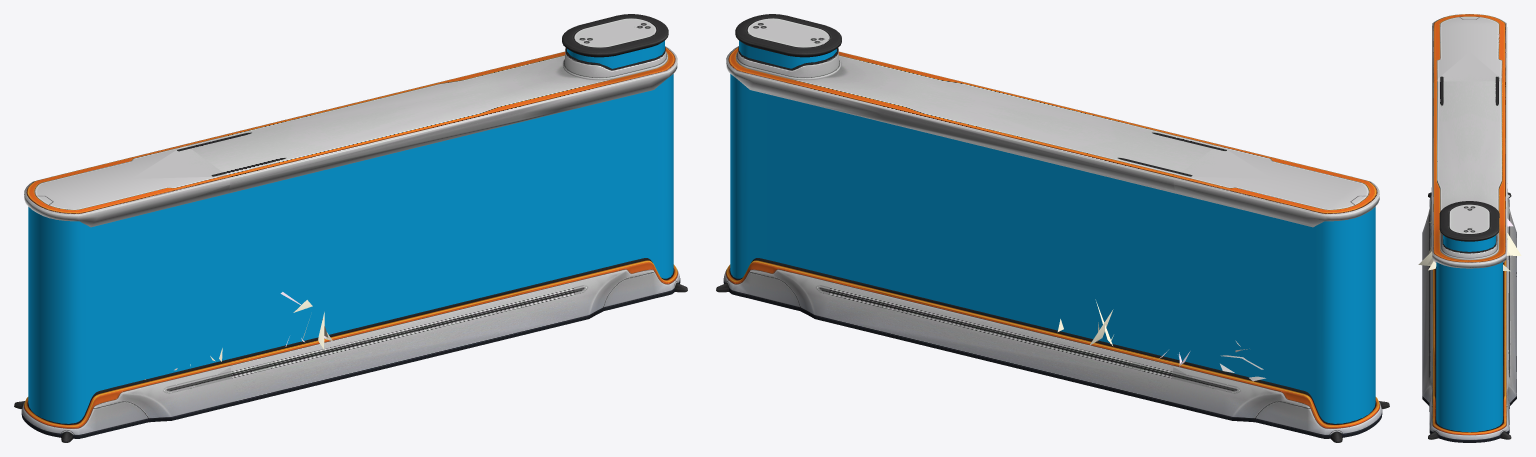
The model's file is BiggerAquarium.fbx.
3 renders of one model, left to right at view 1: azimuth 30°, elevation 25°; view 2: azimuth 150°, elevation 25°; view 3: azimuth 270°, elevation 25°, orthographic. The views are drawn at different scales.
Visible parts, largest first — view 1: Aquarium_glass_1, Aquarium_2, Aquarium_glass, Aquarium_1; view 2: Aquarium_glass, Aquarium_1, Aquarium_glass_1, Aquarium_2; view 3: Aquarium_1, Aquarium_2, Aquarium_glass, Aquarium_glass_1, coral_reef_grass_07, coral_reef_grass_10.
Part boxes in pixels (box(x1,y1,x2,y2)): Aquarium_glass_1: box(28, 74, 673, 414); Aquarium_2: box(14, 14, 687, 442); Aquarium_glass: box(31, 183, 287, 423); Aquarium_1: box(14, 14, 686, 442); Aquarium_glass: box(730, 74, 1375, 419); Aquarium_1: box(716, 14, 1388, 441); Aquarium_glass_1: box(1123, 181, 1375, 423); Aquarium_2: box(718, 14, 1389, 442); Aquarium_1: box(1422, 14, 1516, 442); Aquarium_2: box(1422, 14, 1516, 442); Aquarium_glass: box(1455, 262, 1502, 432); Aquarium_glass_1: box(1436, 262, 1477, 432); coral_reef_grass_07: box(1428, 233, 1521, 264); coral_reef_grass_10: box(1418, 251, 1436, 270).
Bounding box in the file's own units: 614 × 230 × 107.
